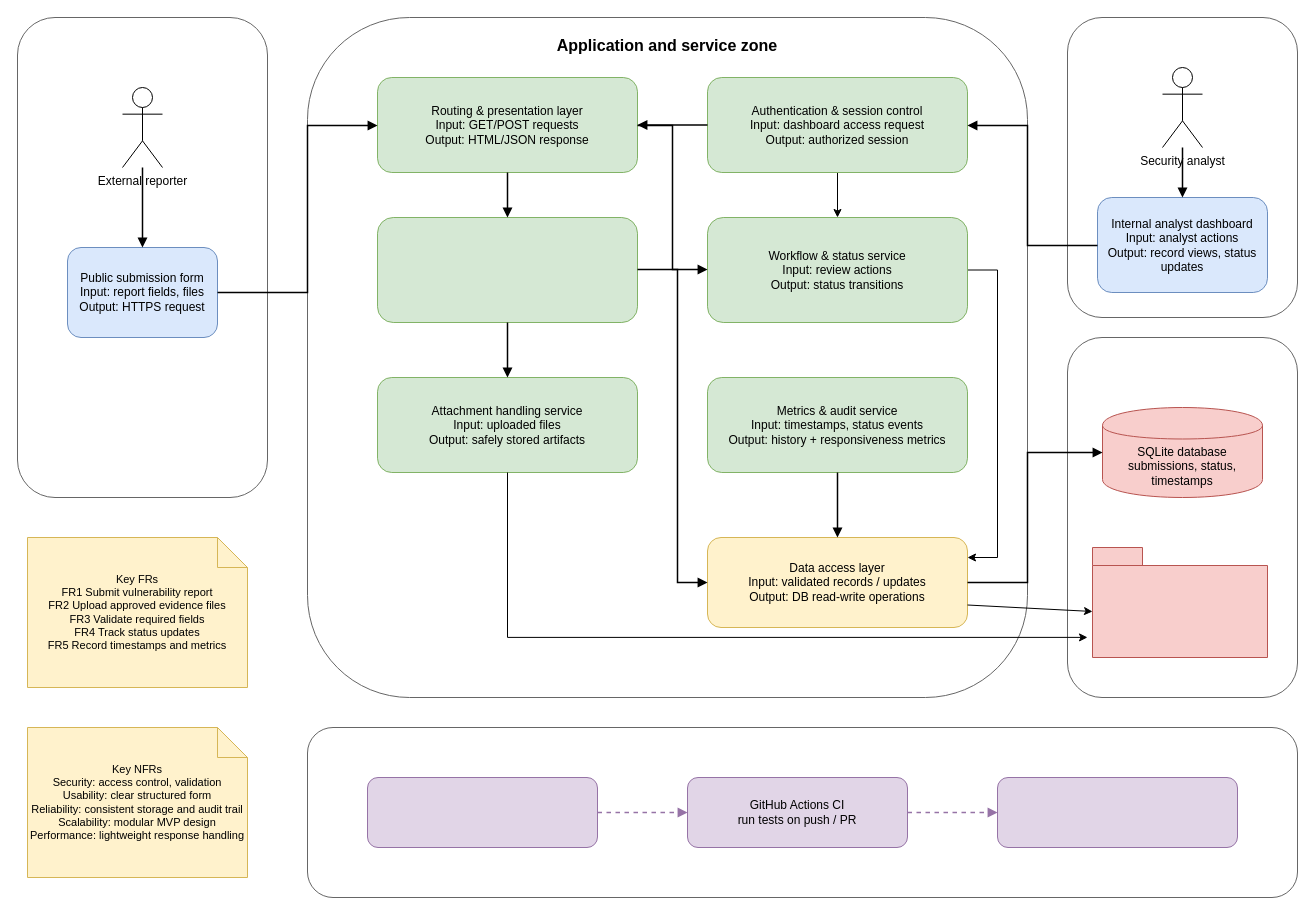
Image size: 1315x915. Some labels were removed from this diagram. The shapes that lost their labels are listed below. From the top down, each one's box as (x1, y1, x2, y2) in pixels, then its label:
(1066, 16, 1298, 318): Internal access zone
(16, 16, 268, 498): External access zone
(376, 216, 638, 322): Validation & intake service Input: submitted form data Output: validated payload
(1066, 336, 1298, 698): Data and storage zone
(1092, 546, 1268, 658): Upload storage server-side files outside static web root
(366, 776, 598, 848): GitHub repository main + development branches
(306, 726, 1298, 898): Version control and deployment lane
(996, 776, 1238, 848): Elastic Beanstalk deployment single-instance MVP hosting
